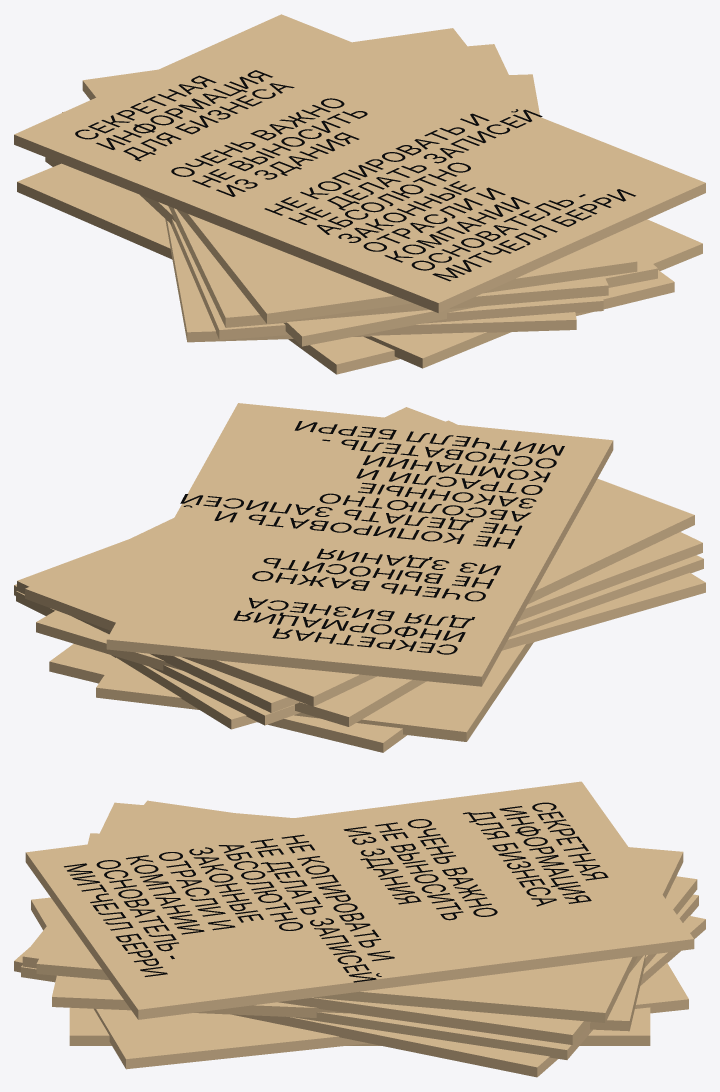
File: paper stack.glb
3 views of the same model, one above another, from view 1: azimuth 30°, elevation 25°; view 2: azimuth 150°, elevation 25°; view 3: azimuth 270°, elevation 25° (orthographic).
Parts seen in each view (by area): view 1: Cube.007, Cube.006, Text, Cube, Cube.003, Cube.002, Cube.005, Cube.004, Cube.001; view 2: Cube.007, Cube.006, Text, Cube, Cube.003, Cube.002, Cube.005, Cube.004, Cube.001; view 3: Cube.007, Cube.006, Text, Cube, Cube.003, Cube.002, Cube.005, Cube.004, Cube.001.
Boxes of the visible parts, bbox=[...] form: Cube.007: bbox=[14, 14, 705, 312]; Cube.006: bbox=[82, 28, 637, 323]; Text: bbox=[75, 70, 635, 281]; Cube: bbox=[17, 163, 702, 368]; Cube.003: bbox=[168, 44, 608, 327]; Cube.002: bbox=[165, 74, 576, 342]; Cube.005: bbox=[62, 111, 657, 346]; Cube.004: bbox=[170, 219, 603, 340]; Cube.001: bbox=[45, 157, 674, 374]; Cube.007: bbox=[106, 403, 613, 686]; Cube.006: bbox=[25, 407, 694, 706]; Text: bbox=[180, 421, 564, 654]; Cube: bbox=[96, 642, 533, 741]; Cube.003: bbox=[17, 420, 702, 712]; Cube.002: bbox=[14, 572, 705, 729]; Cube.005: bbox=[36, 610, 426, 726]; Cube.004: bbox=[16, 555, 703, 725]; Cube.001: bbox=[49, 644, 407, 752]; Cube.007: bbox=[25, 781, 694, 1019]; Cube.006: bbox=[36, 802, 683, 1022]; Text: bbox=[64, 802, 608, 982]; Cube: bbox=[31, 897, 688, 1069]; Cube.003: bbox=[22, 800, 697, 1044]; Cube.002: bbox=[14, 916, 705, 1077]; Cube.005: bbox=[52, 833, 645, 1031]; Cube.004: bbox=[21, 894, 698, 1059]; Cube.001: bbox=[69, 1007, 650, 1045].
Size of the model in its own units: 3.09 by 0.3882 by 3.55.
